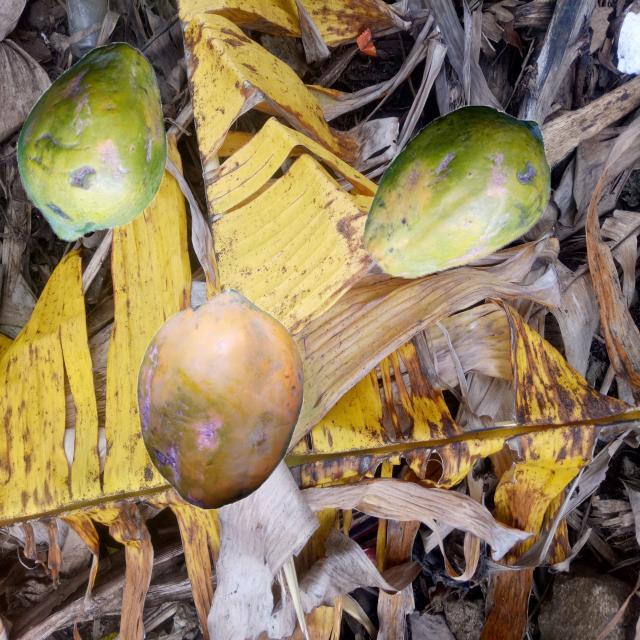Pepaya rippen: (132, 287, 300, 520), (347, 120, 559, 286), (19, 35, 169, 258)
